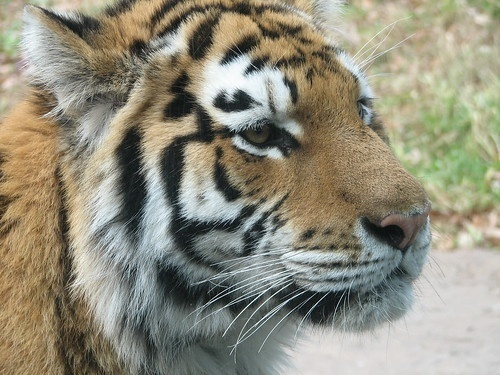tigre: (1, 1, 437, 374)
